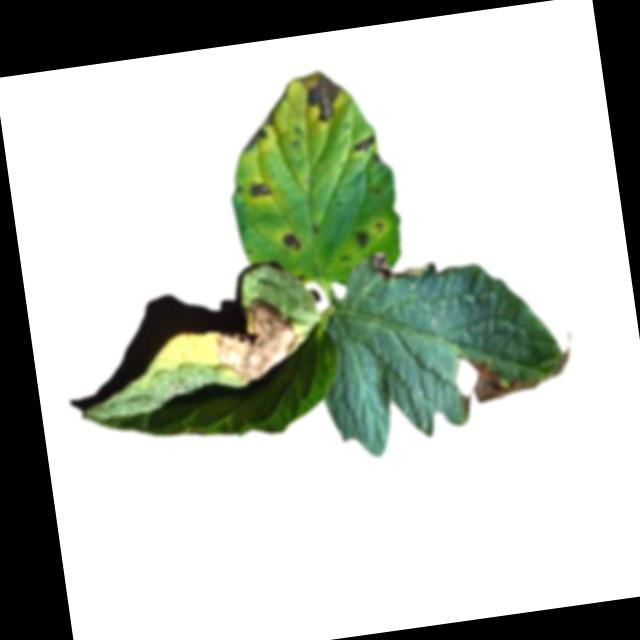Early_blight: (450, 329, 584, 421), (206, 290, 304, 389), (292, 62, 345, 126), (366, 249, 423, 289), (349, 131, 378, 153), (241, 127, 268, 148), (246, 178, 271, 198), (282, 230, 302, 254), (354, 224, 370, 248)
